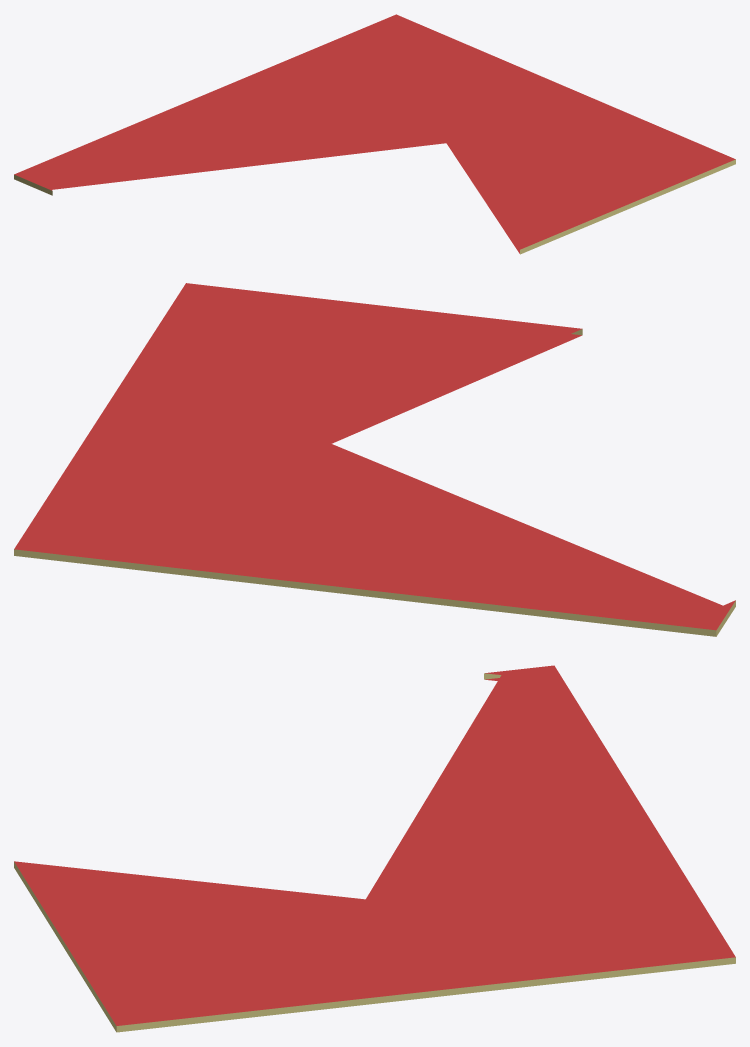
The picture shows the model from 3 angles, top to bottom: view 1: azimuth 30°, elevation 25°; view 2: azimuth 150°, elevation 25°; view 3: azimuth 270°, elevation 25°; orthographic projection. The views are drawn at different scales.
Bounding box in the file's own units: 12.04 × 10.18 × 0.1.
